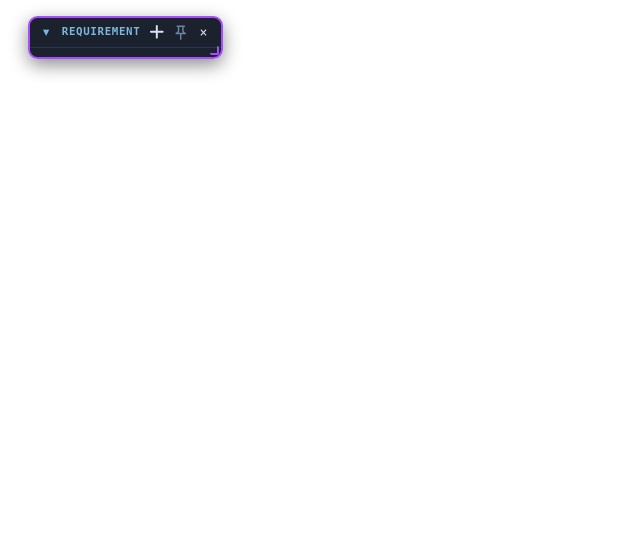
Test: Requirement Filer (req #3811) › says why a save failed and keeps the draft — the editor Create closed comes back (req #3860)
The image size is (626, 558).
Click the button with test id "requirement-filer-add": (157, 32) x1=148 y1=23 x2=167 y2=42
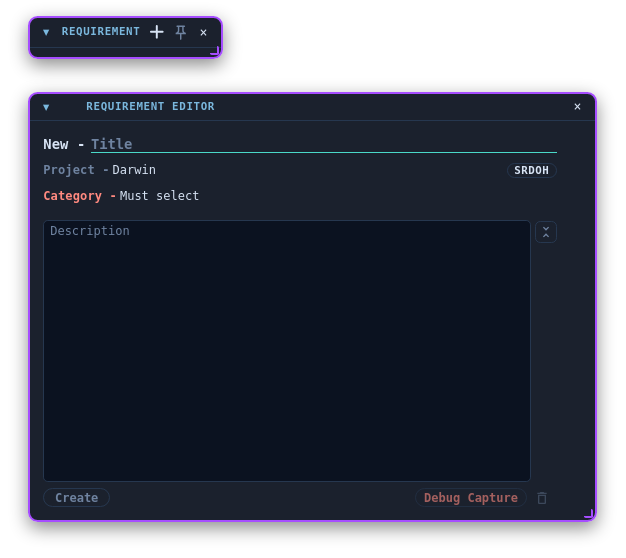
In the field with test id "requirement-editor-field-title": (324, 144) x1=91 y1=136 x2=557 y2=153, type "x"
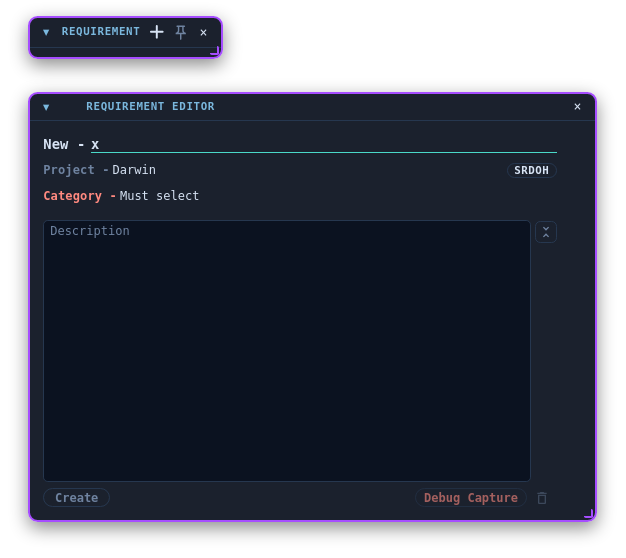
Select "Darwin" in the dropdown with test id "requirement-editor-field-project": (153, 171) x1=113 y1=162 x2=193 y2=180
Select "Swarm" in the dropdown with test id "requirement-editor-field-category": (160, 197) x1=120 y1=188 x2=200 y2=206
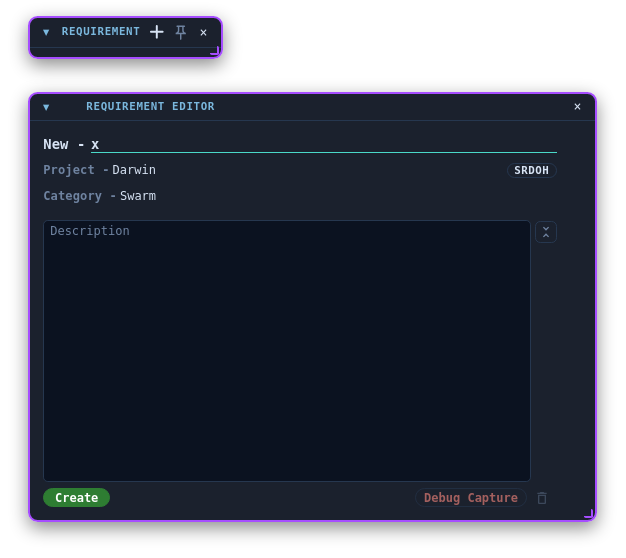
Click the button with test id "requirement-editor-save": (77, 498) x1=43 y1=488 x2=110 y2=507
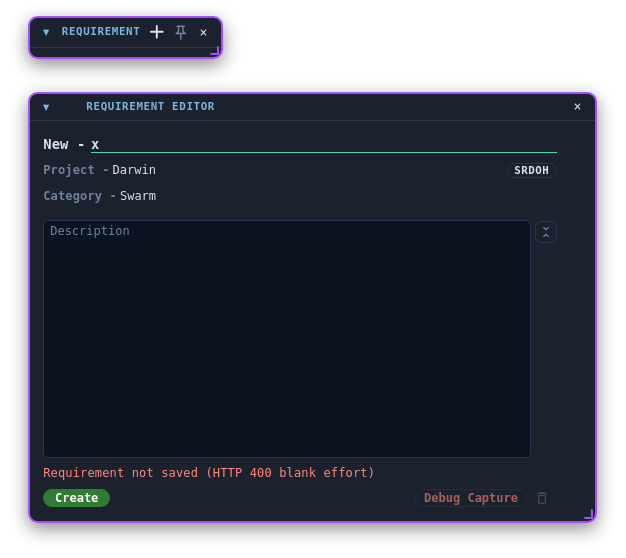
Result: the field with test id "requirement-editor-field-title" holds "x" at x1=91 y1=136 x2=557 y2=153
Result: the button with test id "requirement-editor-save" is enabled at x1=43 y1=489 x2=110 y2=507
Result: the message with test id "requirement-editor-error" reads "Requirement not saved (HTTP 400 blank effort)" at x1=43 y1=466 x2=375 y2=480
